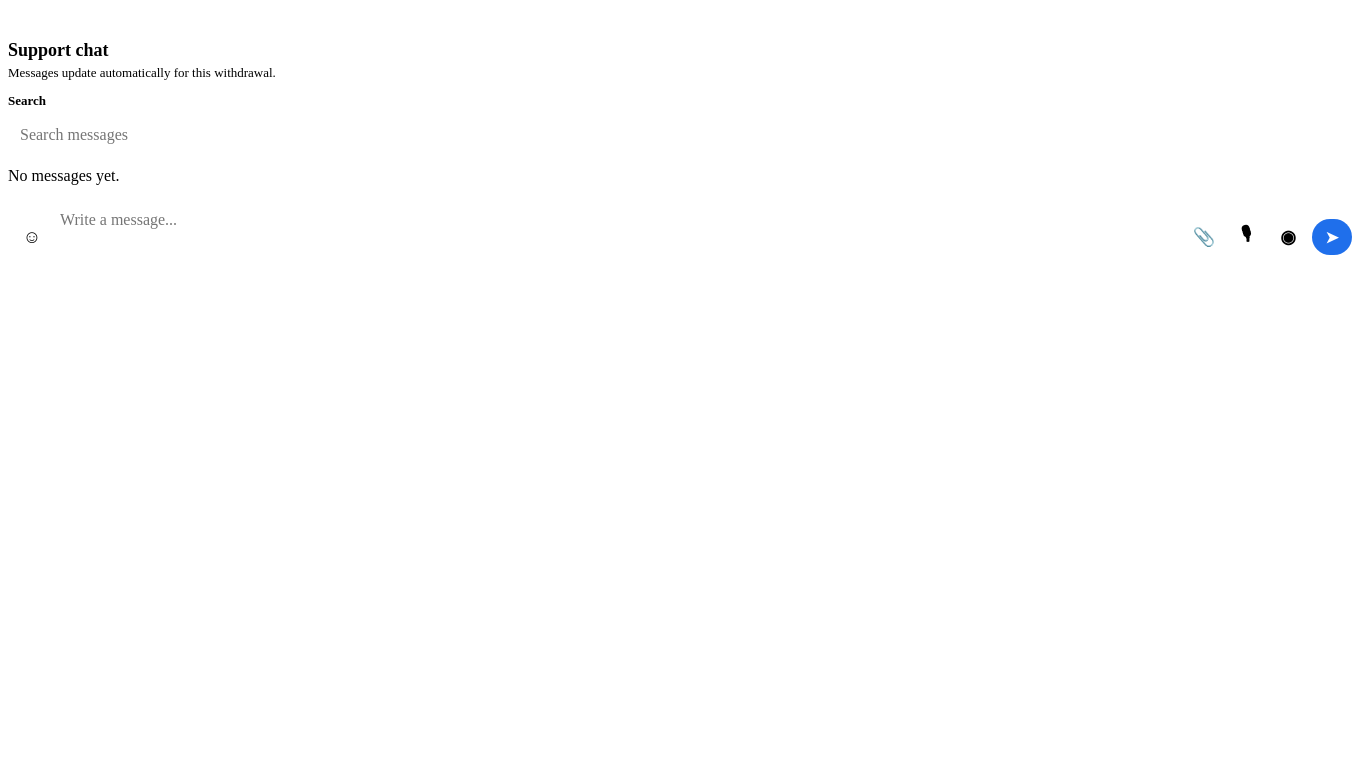
Test case: withdraw ticket chat › sends a user message through the ticket messages endpoint
expect the text "No messages yet." is shown: met, box [8,167,120,184]
Type "Need help with this withdrawal" into the text box with test id "withdraw-ticket-chat-input" at (622, 229), box [56,203,1188,255]
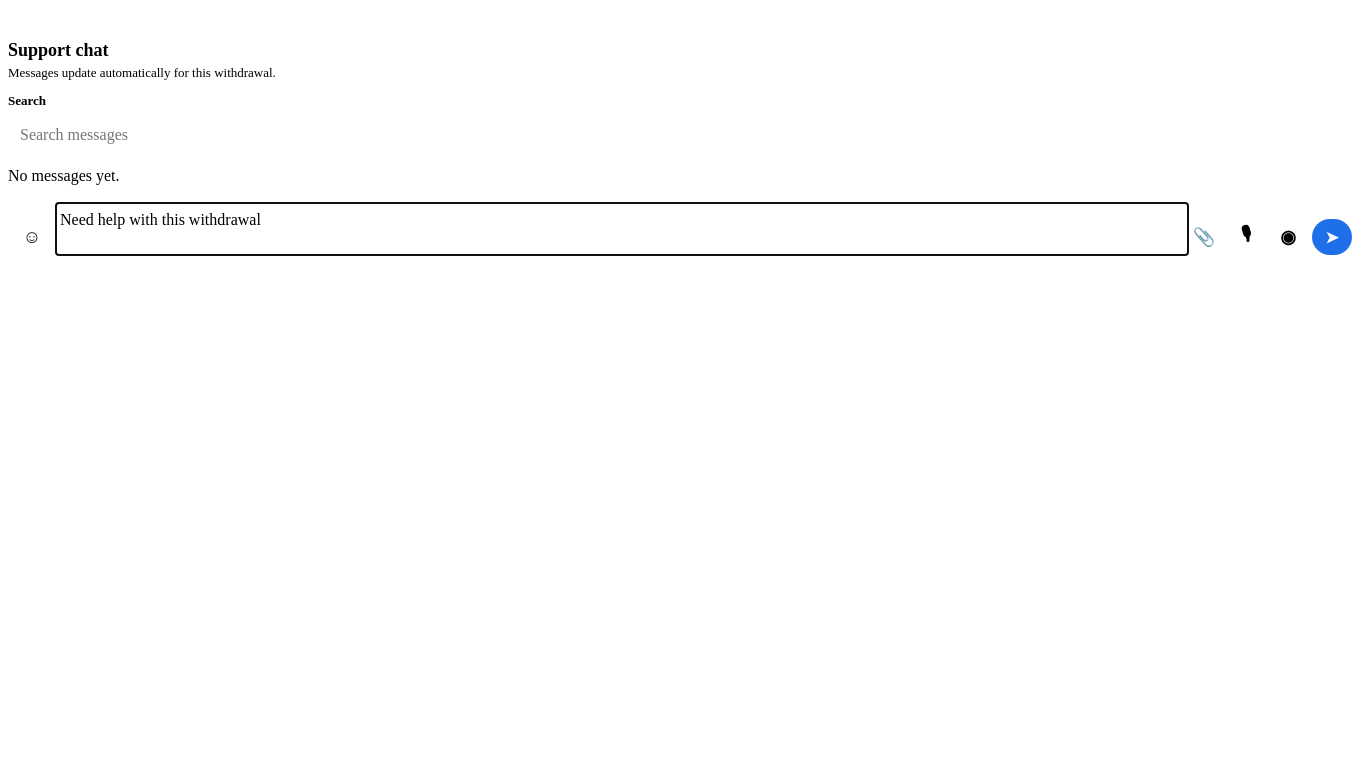
Click the button with test id "withdraw-ticket-chat-send-button" at (1332, 237), box [1312,219,1352,255]
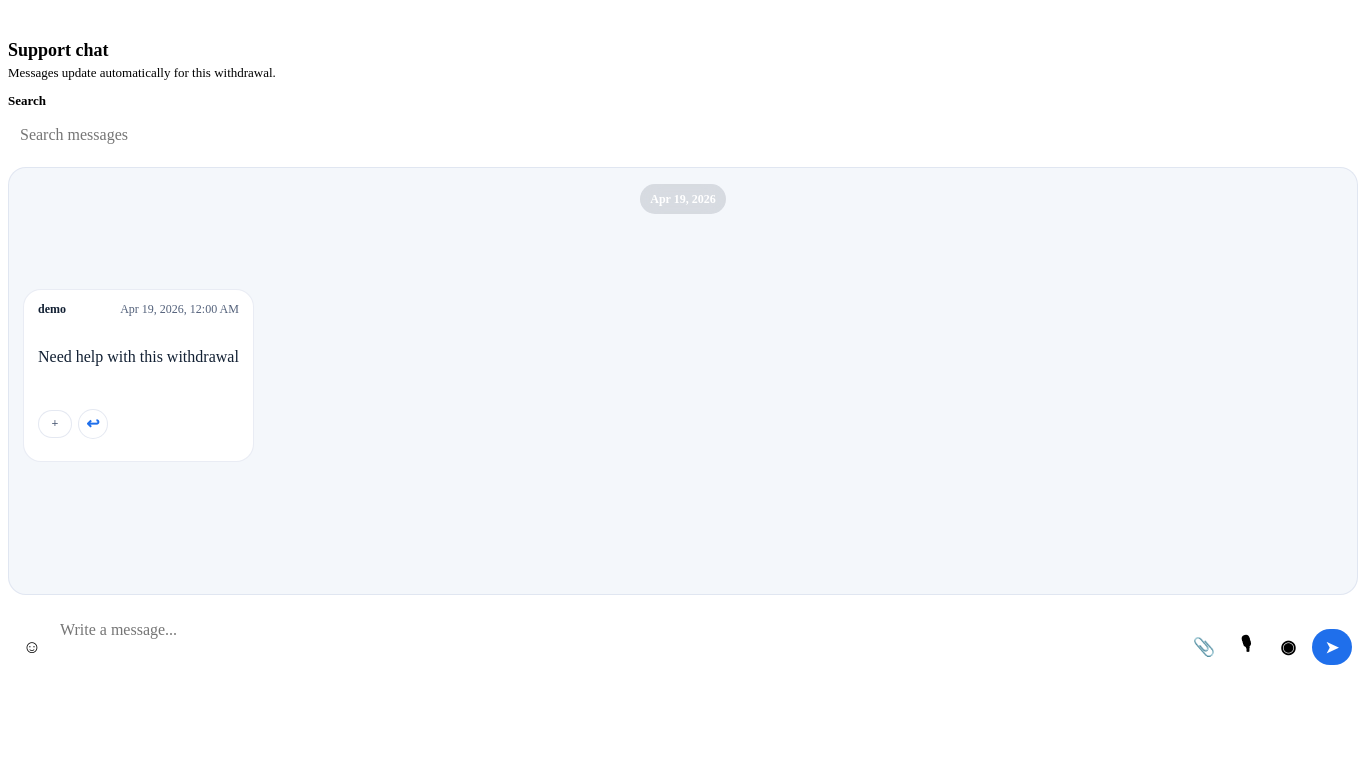
expect the text "Need help with this withdrawal" is shown: met, box [38,348,239,365]
